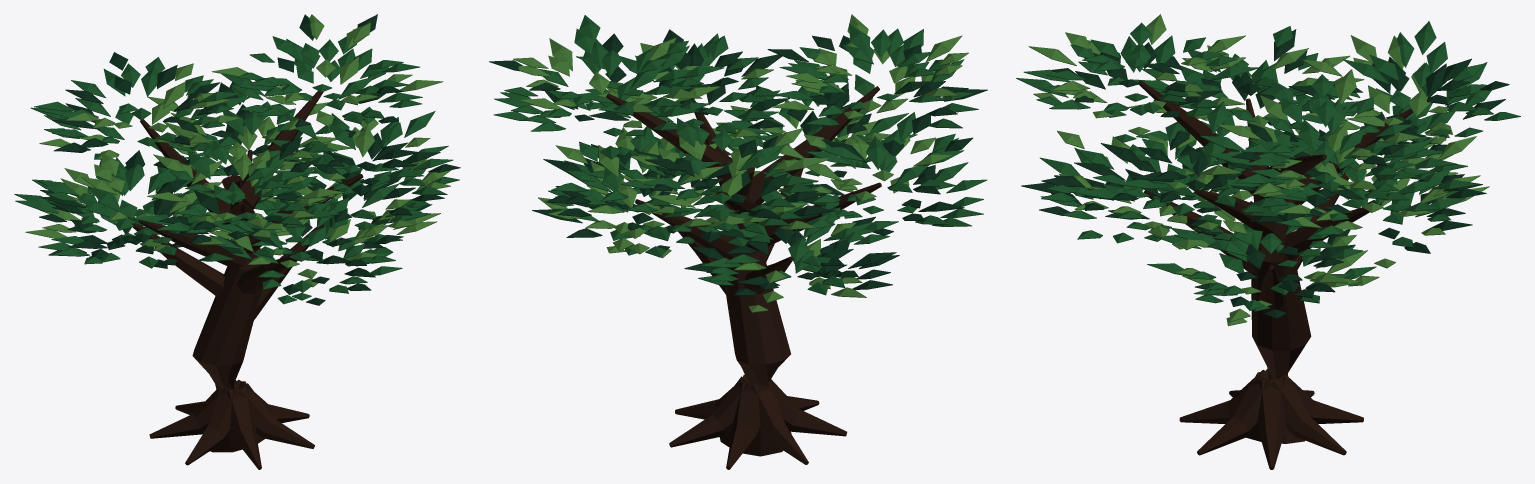
File: Arvore_copa_aberta_LOD0.fbx
3 renders of one model, left to right at view 1: azimuth 30°, elevation 25°; view 2: azimuth 150°, elevation 25°; view 3: azimuth 270°, elevation 25°, orthographic. The views are drawn at different scales.
Visible parts, largest first — view 1: Arvore_copa_aberta_LOD0; view 2: Arvore_copa_aberta_LOD0; view 3: Arvore_copa_aberta_LOD0.
Part boxes in pixels (left/top/right/bottom): Arvore_copa_aberta_LOD0: left=14, top=14, right=460, bottom=469; Arvore_copa_aberta_LOD0: left=489, top=14, right=987, bottom=469; Arvore_copa_aberta_LOD0: left=1016, top=14, right=1520, bottom=469.
Size of the model in its own units: 514 by 425 by 511.
Materials: 1 (1 with a texture image).
